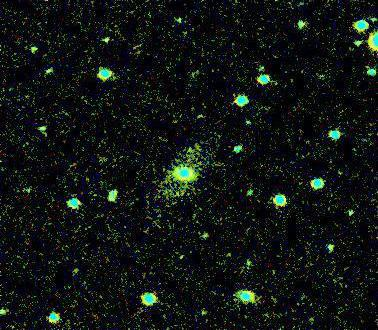star: (59, 255, 89, 285)
